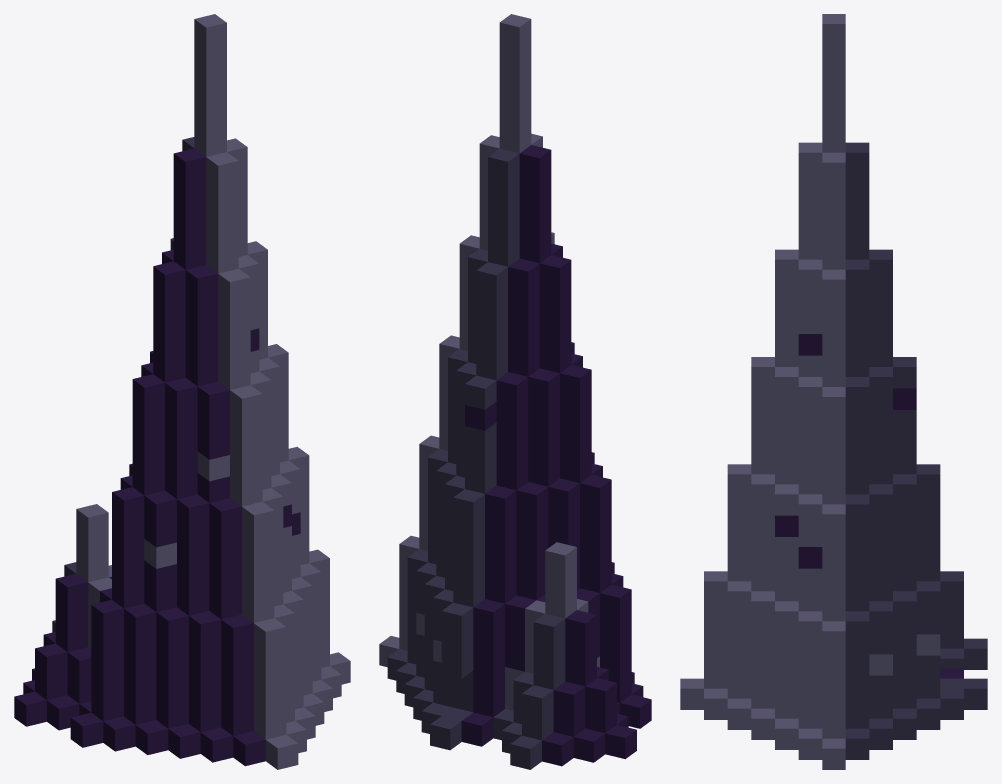
File: stalagmite_large.obj
3 views of the same model, side by side, from view 1: azimuth 30°, elevation 25°; view 2: azimuth 150°, elevation 25°; view 3: azimuth 270°, elevation 25° (orthographic). The views are drawn at different scales.
Visible parts, largest first — view 1: stalagmite_large; view 2: stalagmite_large; view 3: stalagmite_large.
Part boxes in pixels (left/top/right/bottom): stalagmite_large: left=14, top=14, right=350, bottom=769; stalagmite_large: left=379, top=14, right=651, bottom=769; stalagmite_large: left=680, top=14, right=987, bottom=769.
Size of the model in its own units: 0.875 by 2 by 0.8125.
1 material, 1 textured.
